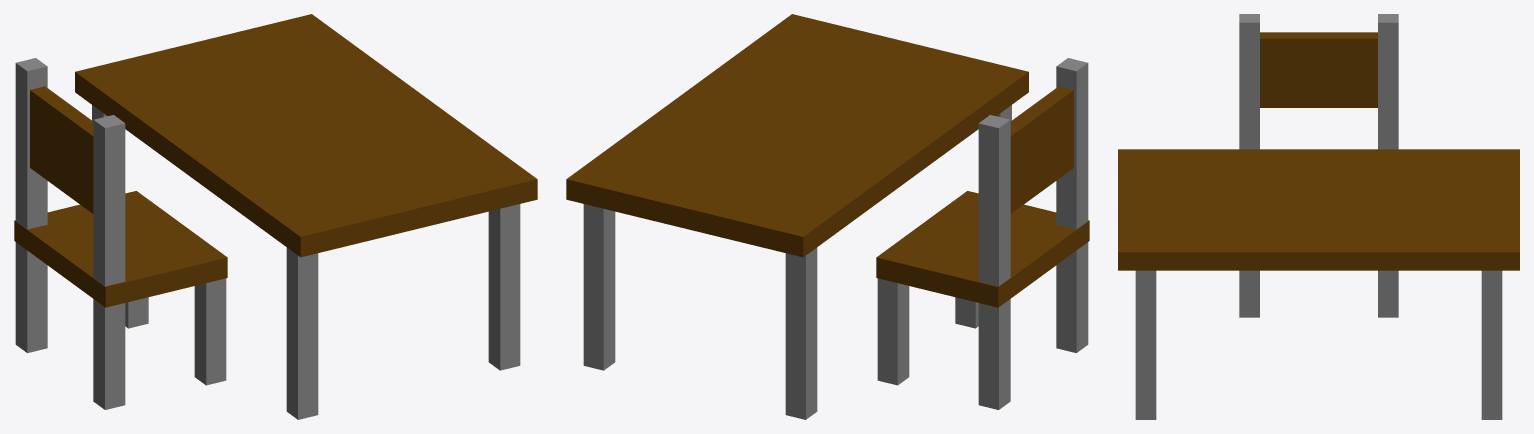
The model's file is Table.fbx.
The picture shows the model from 3 angles, left to right: view 1: azimuth 30°, elevation 25°; view 2: azimuth 150°, elevation 25°; view 3: azimuth 270°, elevation 25°; orthographic projection. The views are drawn at different scales.
Visible parts, largest first — view 1: Cube.010, Cube.004, Cube.003, Cube.002, Cube.005, Cube.006, Cube.009, Cube, Cube.001; view 2: Cube.010, Cube.004, Cube.002, Cube.003, Cube.005, Cube.007, Cube.008, Cube.001, Cube; view 3: Cube.010, Cube.005, Cube.008, Cube.009, Cube.002, Cube.003, Cube, Cube.001.
Boxes of the visible parts, box(x1,y1,x2,y2) form: Cube.010: box(75, 14, 537, 257); Cube.004: box(14, 191, 227, 307); Cube.003: box(93, 115, 125, 409); Cube.002: box(15, 58, 47, 352); Cube.005: box(30, 86, 93, 213); Cube.006: box(286, 247, 318, 419); Cube.009: box(488, 204, 520, 370); Cube: box(194, 278, 226, 385); Cube.001: box(125, 297, 148, 328); Cube.010: box(566, 14, 1028, 257); Cube.004: box(876, 191, 1089, 307); Cube.002: box(978, 115, 1010, 409); Cube.003: box(1056, 58, 1088, 352); Cube.005: box(1010, 86, 1073, 213); Cube.007: box(785, 247, 817, 419); Cube.008: box(583, 204, 615, 370); Cube.001: box(877, 278, 909, 385); Cube: box(955, 297, 978, 328); Cube.010: box(1118, 149, 1519, 270); Cube.005: box(1260, 32, 1377, 107); Cube.008: box(1481, 270, 1502, 419); Cube.009: box(1135, 270, 1156, 419); Cube.002: box(1378, 14, 1398, 149); Cube.003: box(1239, 14, 1259, 149); Cube: box(1239, 270, 1259, 317); Cube.001: box(1378, 270, 1398, 317).
Size of the model in its own units: 1083 by 800 by 1161.
